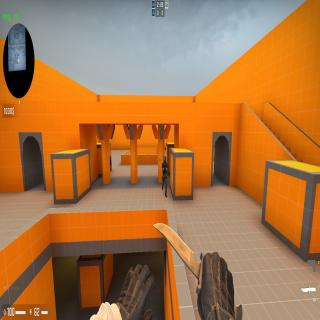CT-Body: (162, 156, 168, 198)
CT-Head: (164, 155, 166, 163)
